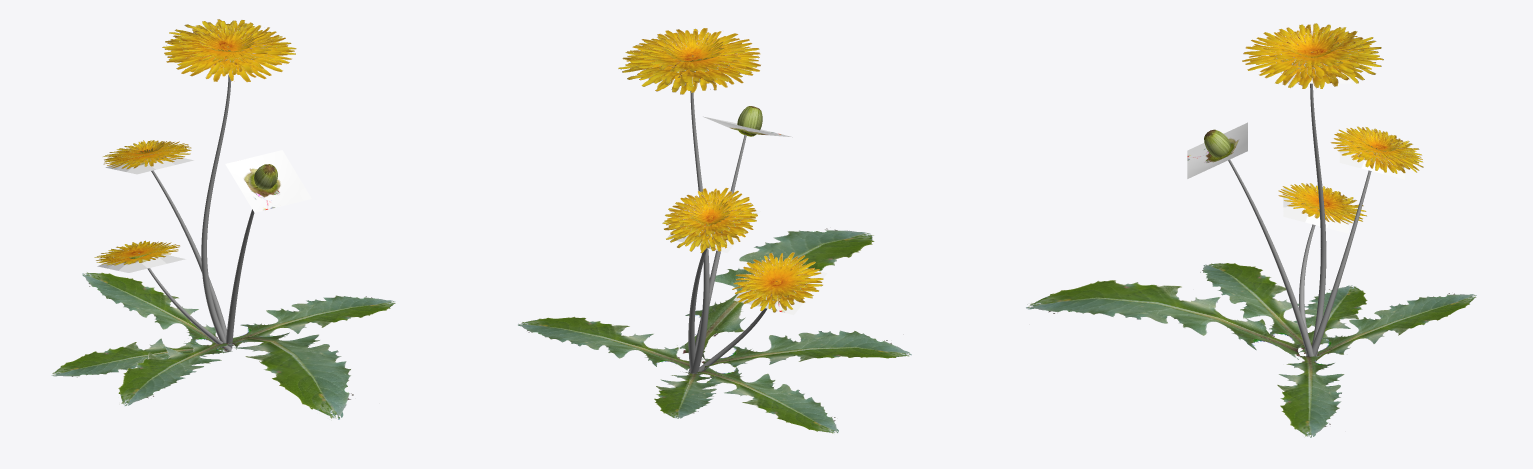
Rendered from lpd.obj.
3 views of the same model, side by side, from view 1: azimuth 30°, elevation 25°; view 2: azimuth 150°, elevation 25°; view 3: azimuth 270°, elevation 25° (orthographic). The views are drawn at different scales.
Visible parts, largest first — view 1: IMG_20180429_120041.001, IMG_20180429_120041.004, IMG_20180429_120041, IMG_20180429_120041.003, IMG_20180429_122516, IMG_20180429_120435, IMG_20180429_120041.002, IMG_20180429_120435.002_IMG_20180429_120435.003, NurbsPath, IMG_20180429_120435.001_IMG_20180429_120435.002, IMG_20180429_120435.003_IMG_20180429_120435.004, NurbsPath.001 (+10 smaller); view 2: IMG_20180429_120041.001, IMG_20180429_120041.003, IMG_20180429_120041, IMG_20180429_120041.002, IMG_20180429_120435, IMG_20180429_120435.002_IMG_20180429_120435.003, IMG_20180429_120435.009, IMG_20180429_120435.008, IMG_20180429_120041.004, IMG_20180429_120435.007, IMG_20180429_120435.005, IMG_20180429_120435.001_IMG_20180429_120435.002 (+8 smaller); view 3: IMG_20180429_120041.001, IMG_20180429_120041.003, IMG_20180429_120041, IMG_20180429_120041.004, IMG_20180429_120435, IMG_20180429_120435.002_IMG_20180429_120435.003, IMG_20180429_120041.002, IMG_20180429_120435.001_IMG_20180429_120435.002, NurbsPath, IMG_20180429_122516, NurbsPath.001, IMG_20180429_120435.007 (+9 smaller).
Boxes of the visible parts, x1,y1,x2,y2 form: IMG_20180429_120041.001: [229, 332, 353, 420]; IMG_20180429_120041.004: [82, 272, 233, 353]; IMG_20180429_120041: [232, 295, 395, 349]; IMG_20180429_120041.003: [118, 341, 233, 406]; IMG_20180429_122516: [225, 150, 311, 212]; IMG_20180429_120435: [162, 19, 290, 74]; IMG_20180429_120041.002: [51, 338, 227, 377]; IMG_20180429_120435.002_IMG_20180429_120435.003: [179, 20, 274, 62]; NurbsPath: [201, 46, 231, 350]; IMG_20180429_120435.001_IMG_20180429_120435.002: [163, 23, 296, 82]; IMG_20180429_120435.003_IMG_20180429_120435.004: [198, 24, 255, 52]; NurbsPath.001: [226, 209, 254, 348]; IMG_20180429_120041.001: [675, 228, 874, 361]; IMG_20180429_120041.003: [701, 330, 911, 369]; IMG_20180429_120041: [518, 316, 703, 371]; IMG_20180429_120041.002: [689, 367, 838, 433]; IMG_20180429_120435: [625, 28, 759, 86]; IMG_20180429_120435.002_IMG_20180429_120435.003: [640, 30, 744, 72]; IMG_20180429_120435.009: [743, 256, 810, 301]; IMG_20180429_120435.008: [732, 252, 823, 312]; IMG_20180429_120041.004: [654, 372, 722, 418]; IMG_20180429_120435.007: [666, 187, 757, 247]; IMG_20180429_120435.005: [676, 192, 744, 236]; IMG_20180429_120435.001_IMG_20180429_120435.002: [618, 34, 760, 94]; IMG_20180429_120041.001: [1026, 280, 1303, 359]; IMG_20180429_120041.003: [1200, 263, 1322, 350]; IMG_20180429_120041: [1277, 355, 1344, 437]; IMG_20180429_120041.004: [1304, 293, 1476, 361]; IMG_20180429_120435: [1245, 23, 1381, 78]; IMG_20180429_120435.002_IMG_20180429_120435.003: [1262, 26, 1364, 68]; IMG_20180429_120041.002: [1293, 285, 1367, 355]; IMG_20180429_120435.001_IMG_20180429_120435.002: [1242, 31, 1383, 88]; NurbsPath: [1310, 51, 1326, 356]; IMG_20180429_122516: [1187, 122, 1247, 178]; NurbsPath.001: [1228, 159, 1313, 356]; IMG_20180429_120435.007: [1334, 126, 1422, 167].
Size of what is drawn, in the model's own units: 3.17 by 2.49 by 3.75.
Materials: 6 (5 with a texture image).
